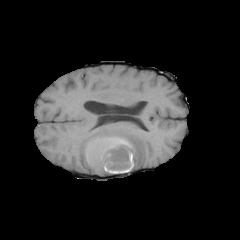glioma: (78, 128, 147, 174)
